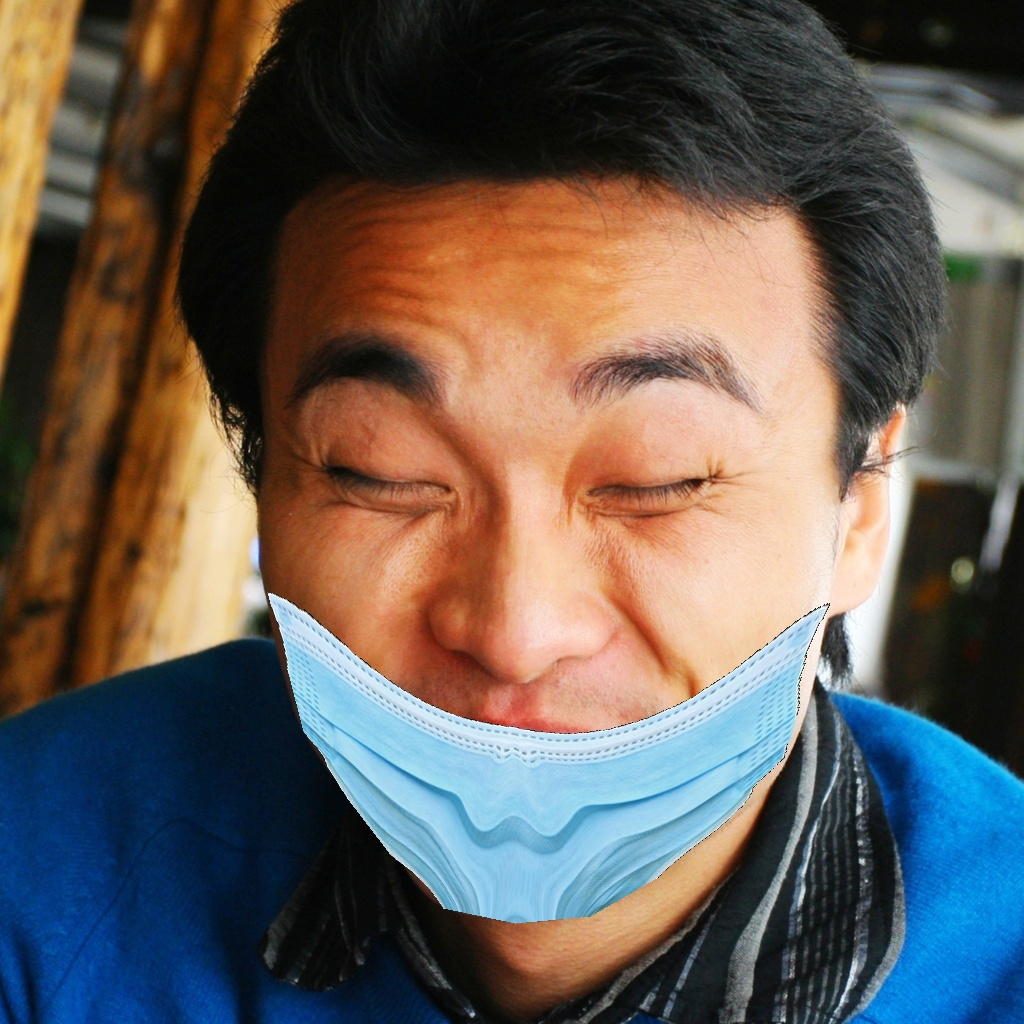mascarilla_mal_puesta: (232, 403, 847, 950)
